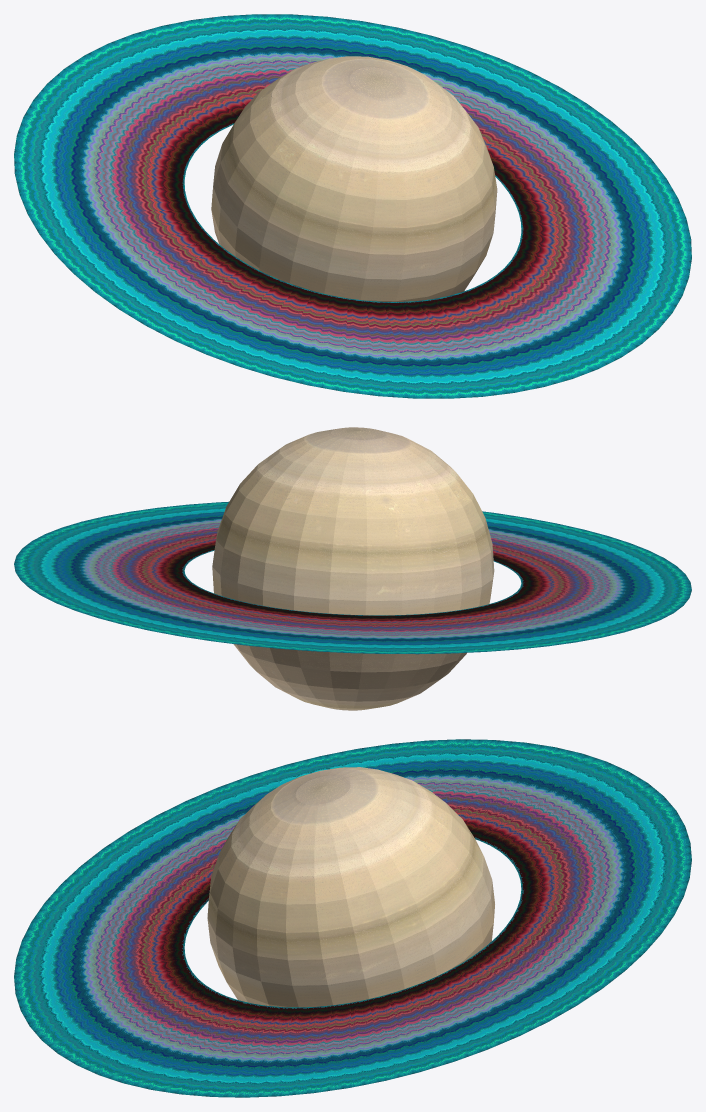
The model's file is saturn.obj.
3 views of the same model, one above another, from view 1: azimuth 30°, elevation 25°; view 2: azimuth 150°, elevation 25°; view 3: azimuth 270°, elevation 25° (orthographic).
Visible parts, largest first — view 1: instance_16_ID34, instance_34_ID4, instance_15_ID4, instance_7_ID4, instance_51_ID4, instance_30_ID4, instance_18_ID4, instance_13_ID4, instance_33_ID4, instance_25_ID4, instance_53_ID4, instance_6_ID4 (+49 smaller); view 2: instance_16_ID34, instance_23_ID4, instance_0_ID4, instance_12_ID4, instance_3_ID4, instance_9_ID4, instance_29_ID4, instance_26_ID4, instance_22_ID4, instance_8_ID4, instance_59_ID4, instance_48_ID4 (+39 smaller); view 3: instance_16_ID34, instance_43_ID4, instance_36_ID4, instance_56_ID4, instance_60_ID4, instance_39_ID4, instance_27_ID4, instance_45_ID4, instance_40_ID4, instance_46_ID4, instance_57_ID4, instance_28_ID4 (+48 smaller).
Part boxes in pixels (x1,y1,x2,y2): instance_16_ID34: (211, 56, 497, 301); instance_34_ID4: (23, 100, 193, 161); instance_15_ID4: (512, 251, 682, 312); instance_7_ID4: (521, 222, 691, 258); instance_51_ID4: (14, 154, 184, 190); instance_30_ID4: (14, 135, 185, 180); instance_18_ID4: (520, 232, 691, 277); instance_13_ID4: (519, 212, 690, 238); instance_33_ID4: (15, 174, 186, 200); instance_25_ID4: (516, 242, 688, 295); instance_53_ID4: (17, 117, 189, 170); instance_6_ID4: (515, 198, 686, 218); instance_16_ID34: (212, 427, 494, 710); instance_23_ID4: (514, 566, 684, 575); instance_0_ID4: (16, 548, 188, 566); instance_12_ID4: (14, 564, 185, 574); instance_3_ID4: (14, 556, 185, 570); instance_9_ID4: (508, 558, 675, 571); instance_29_ID4: (29, 582, 197, 595); instance_26_ID4: (23, 541, 193, 562); instance_22_ID4: (21, 578, 191, 587); instance_8_ID4: (518, 574, 690, 582); instance_59_ID4: (517, 587, 689, 605); instance_48_ID4: (513, 591, 683, 612); instance_16_ID34: (207, 767, 494, 1007); instance_43_ID4: (514, 810, 684, 872); instance_36_ID4: (21, 964, 191, 1026); instance_56_ID4: (16, 929, 188, 958); instance_60_ID4: (517, 878, 689, 907); instance_39_ID4: (520, 860, 691, 898); instance_27_ID4: (14, 938, 185, 976); instance_45_ID4: (520, 843, 691, 889); instance_40_ID4: (14, 947, 185, 993); instance_46_ID4: (518, 826, 690, 880); instance_57_ID4: (15, 956, 187, 1010); instance_28_ID4: (506, 915, 673, 934).
Size of the model in its own units: 119 by 49.88 by 117.
3 materials, 3 textured.
